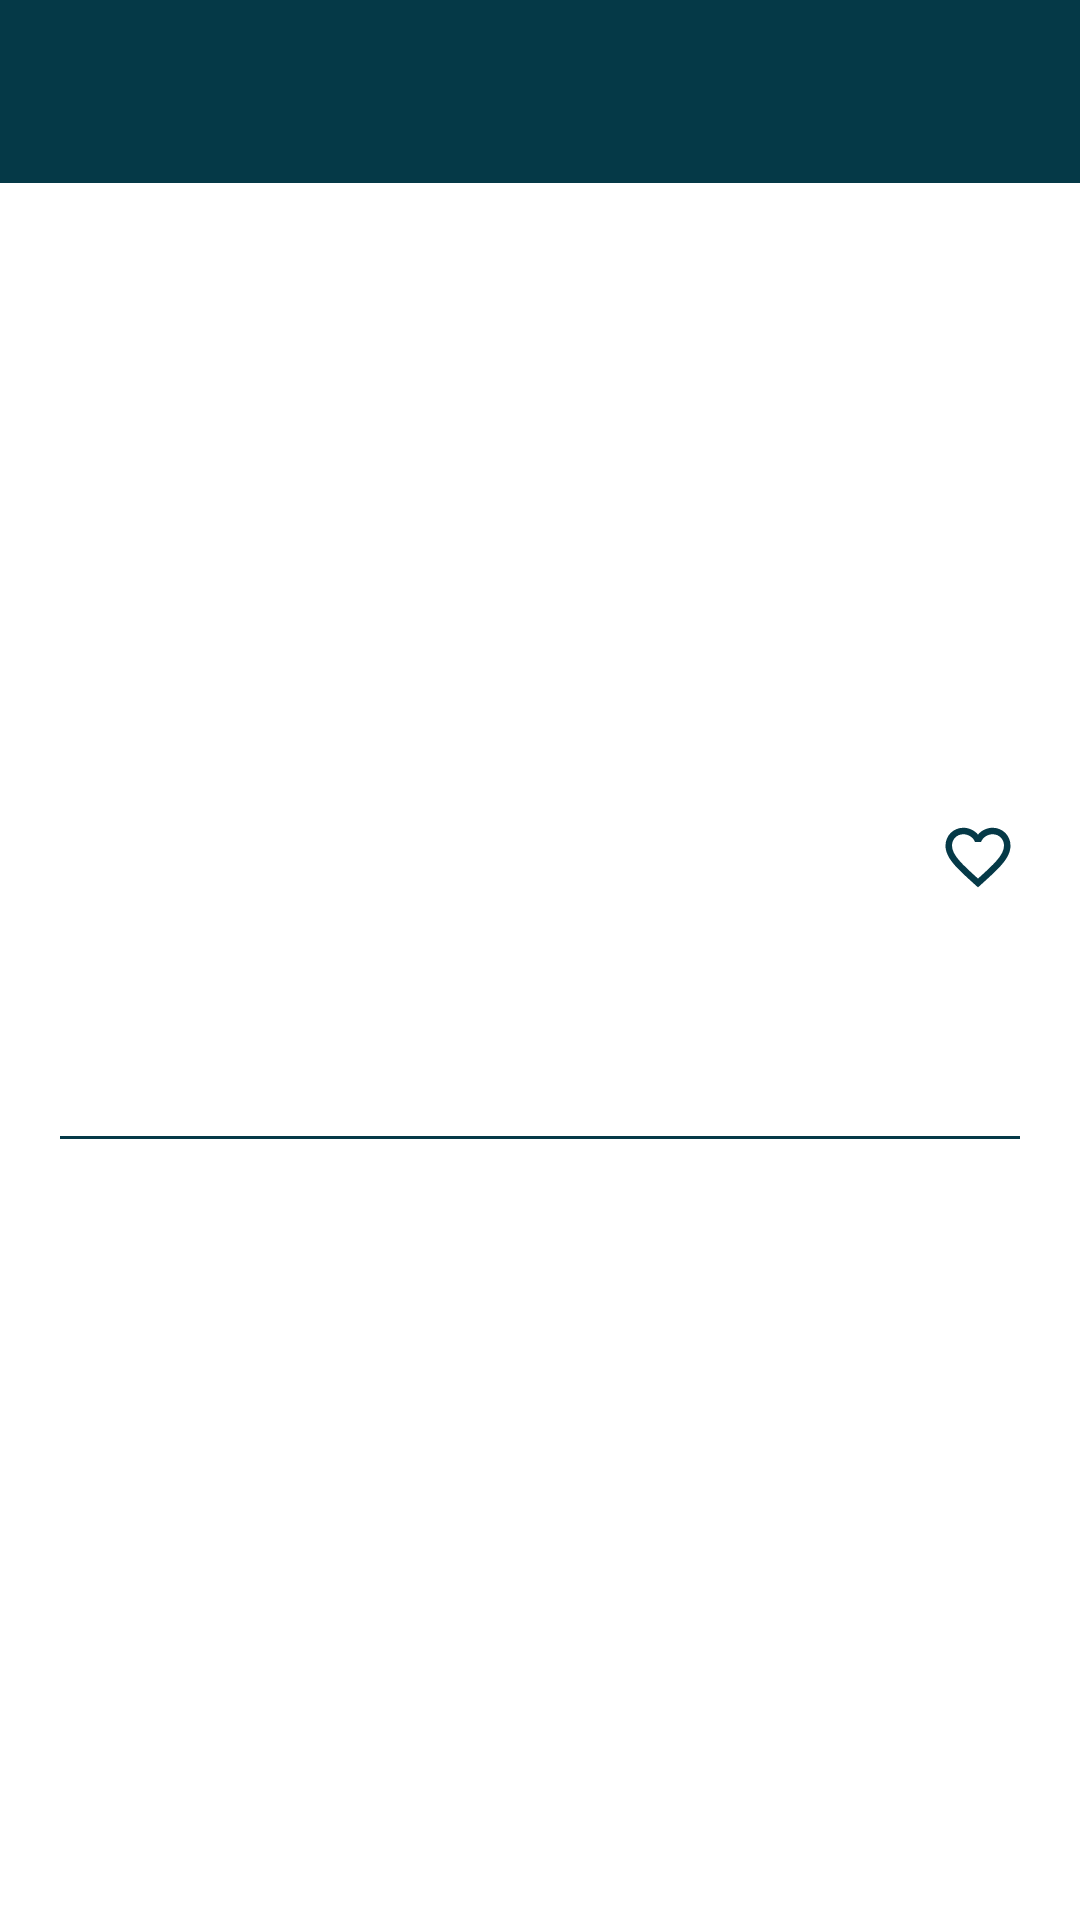

Where to tap for icons on this 1080px x 1920px app screen, as point (x, y):
heart: point (978, 857)
